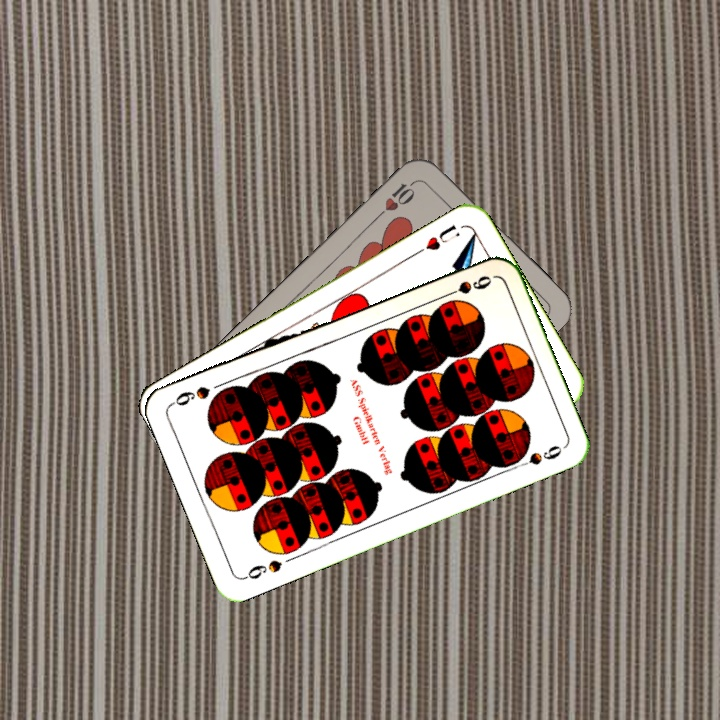H10: (373, 176, 420, 221)
HU: (412, 220, 459, 257)
S9: (438, 271, 494, 301), (239, 555, 284, 583)
